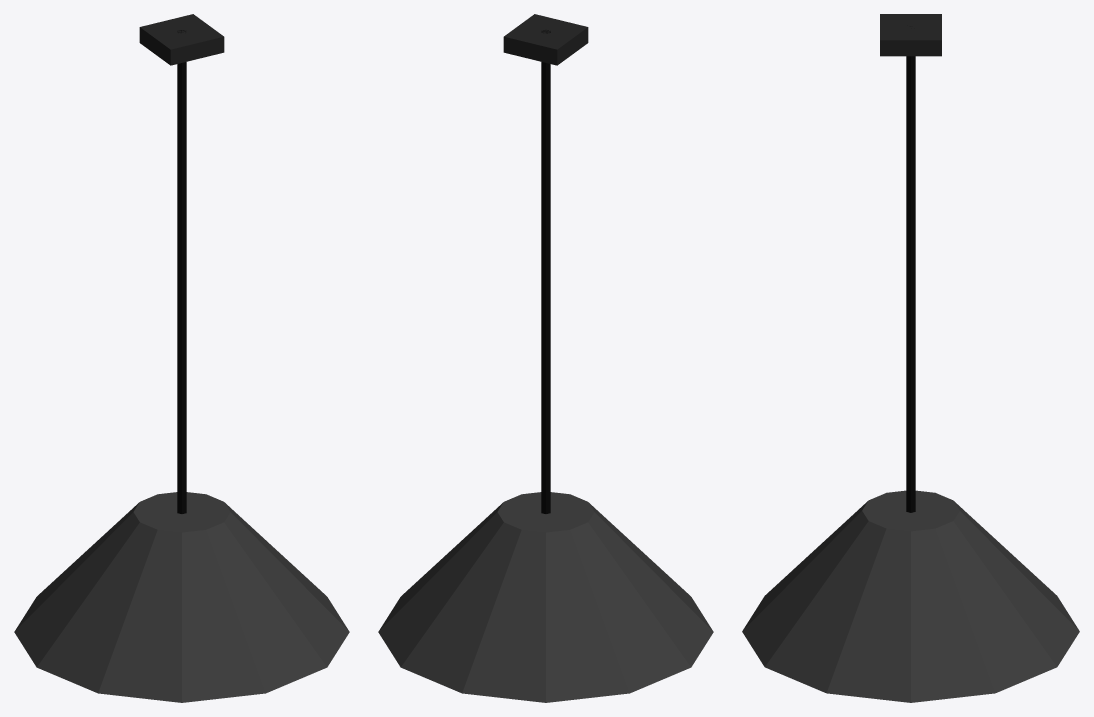
File: CeilingLamp.fbx
3 renders of one model, left to right at view 1: azimuth 30°, elevation 25°; view 2: azimuth 150°, elevation 25°; view 3: azimuth 270°, elevation 25°, orthographic.
Parts seen in each view (by area): view 1: CeilingLamp; view 2: CeilingLamp; view 3: CeilingLamp.
Boxes of the visible parts, x1,y1,x2,y2 form: CeilingLamp: [14, 14, 349, 702]; CeilingLamp: [378, 14, 713, 702]; CeilingLamp: [742, 14, 1079, 702].
Bounding box in the file's own units: 0.76 × 1.54 × 0.76.
